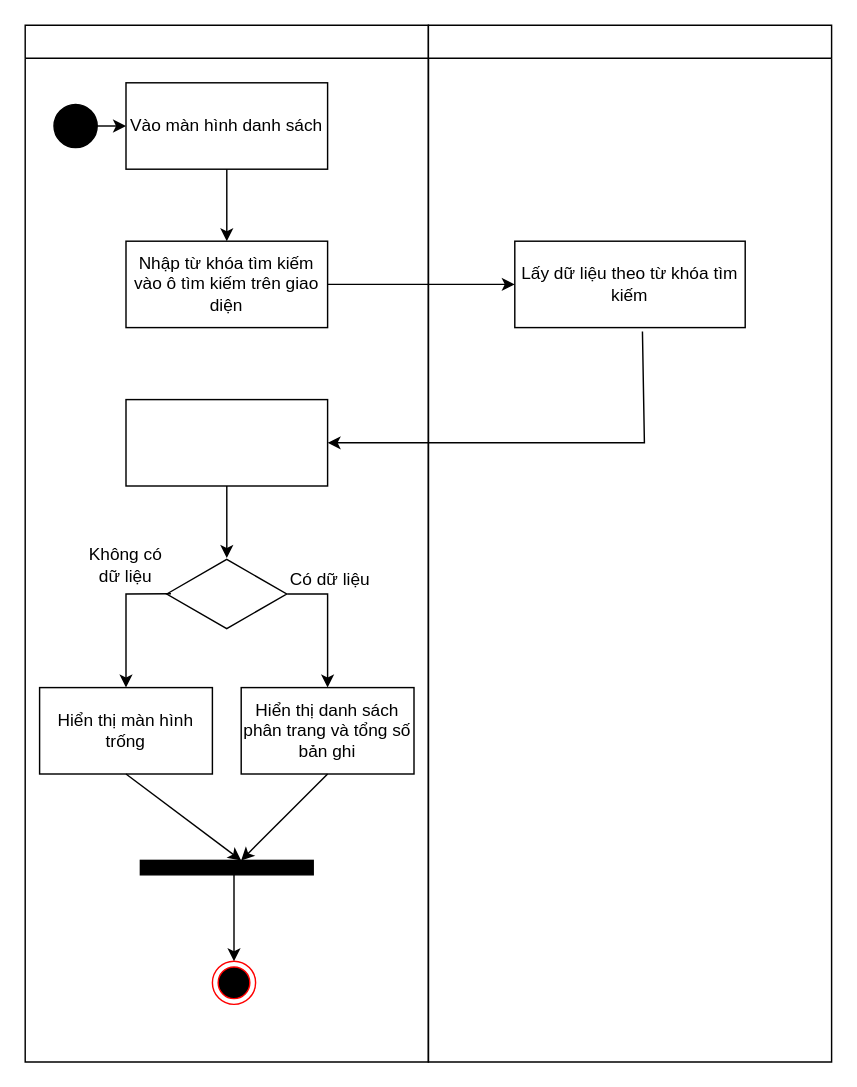
Image size: 857x1087. Some labels were removed from this diagram. The shapes that lost their labels are listed below. From the top down, each one's box as (x1, y1, x2, y2) in pixels, then its label:
(125, 398, 328, 486): Nhận dữ liệu trả về
(24, 24, 428, 1062): Client
(427, 24, 832, 1062): Server
